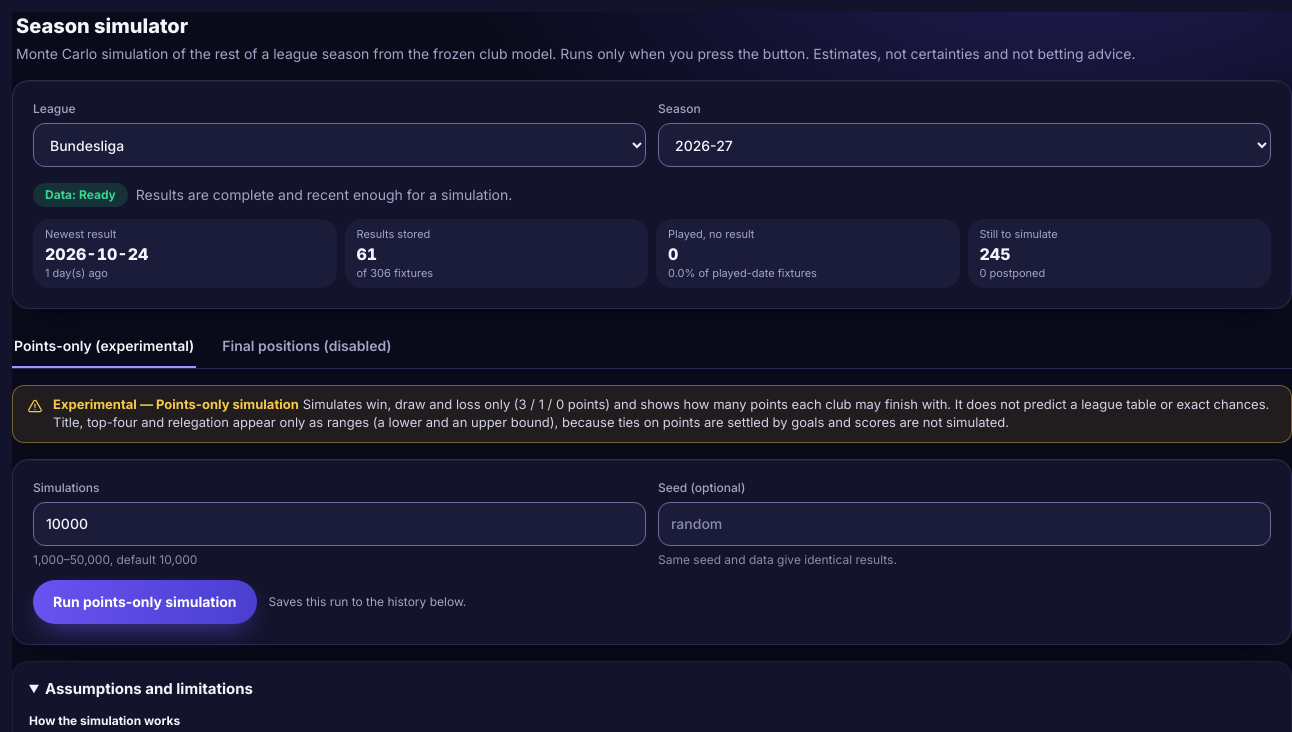
Season simulator tab › keeps the final-position mode disabled and says why, with the league rules notice
The image size is (1292, 732).
Click the tab "Final positions (disabled)". click: (307, 347)
box: [220,325,394,369]
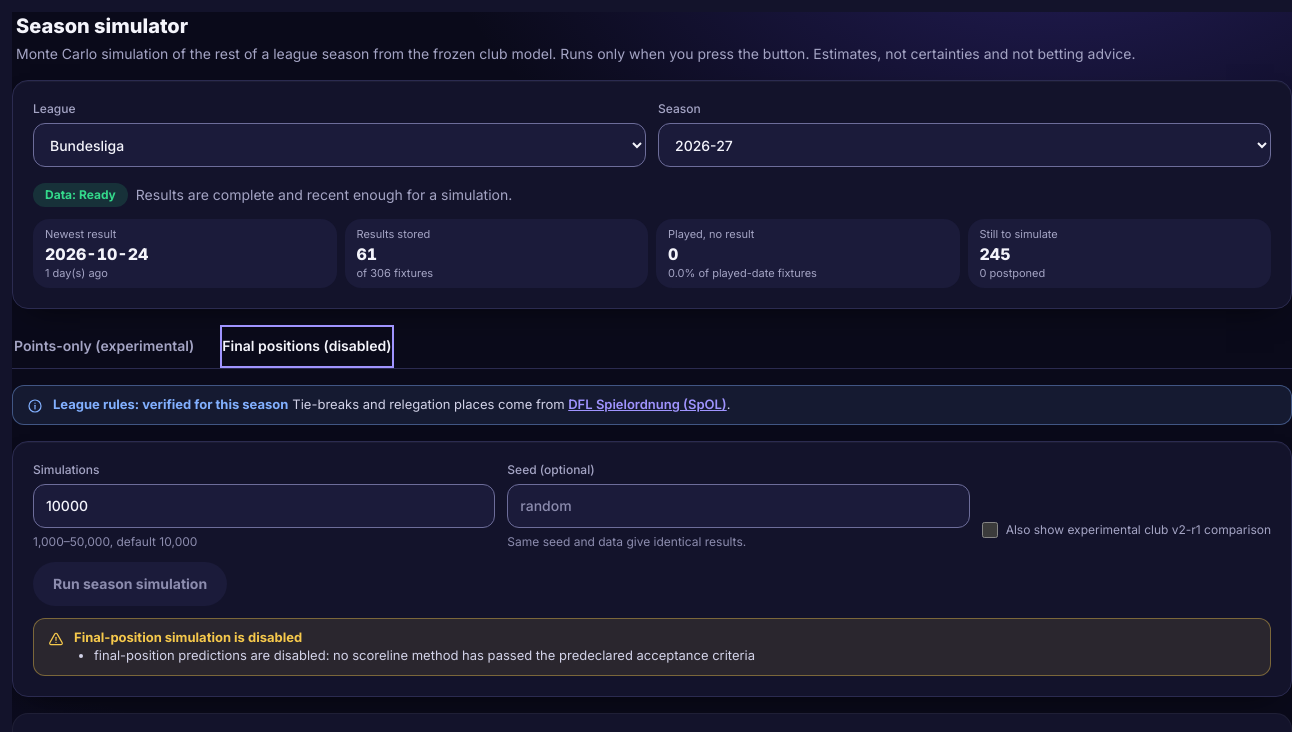
Expected: the text "League rules: verified for this season" is shown, [53,396,288,412]
Expected: the button "Run season simulation" is disabled, [33,562,227,606]
Expected: the list item "no scoreline method has passed" is shown, [94,647,755,663]
